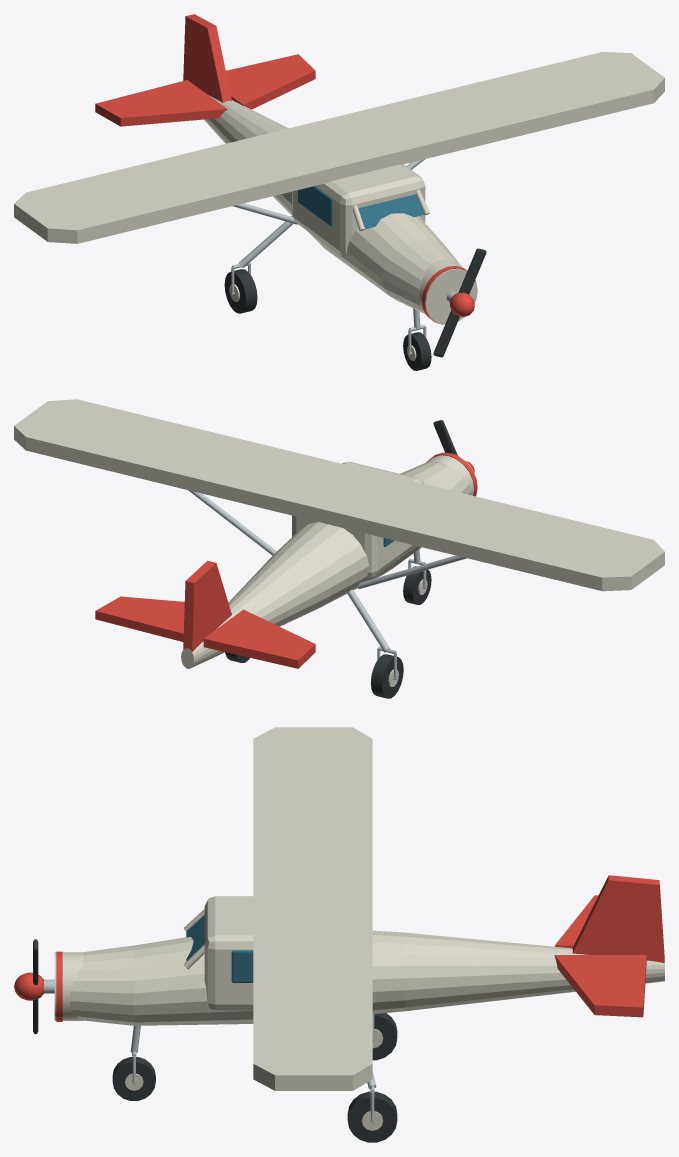
Rendered from small_airplane.glb.
The picture shows the model from 3 angles, top to bottom: view 1: azimuth 30°, elevation 25°; view 2: azimuth 150°, elevation 25°; view 3: azimuth 270°, elevation 25°; orthographic projection. The views are drawn at different scales.
Parts seen in each view (by area): view 1: Small airplane high wing, Small airplane tapered fuselage, Small airplane enclosed cabin, Small airplane horizontal tail, Small airplane horizontal tail.001, Small airplane upright tail fin, Small airplane engine cowling, Small airplane sloping windshield, Small airplane two-blade propeller, Small airplane main landing wheel tire, Small airplane side cockpit window, Small airplane front landing wheel tire; view 2: Small airplane high wing, Small airplane tapered fuselage, Small airplane horizontal tail, Small airplane upright tail fin, Small airplane horizontal tail.001, Small airplane enclosed cabin, Small airplane main landing wheel tire, Small airplane wing support strut, Small airplane front landing wheel tire, Small airplane wing support strut.001, Small airplane main gear strut, Small airplane engine cowling; view 3: Small airplane high wing, Small airplane tapered fuselage, Small airplane upright tail fin, Small airplane enclosed cabin, Small airplane horizontal tail.001, Small airplane main landing wheel tire.001, Small airplane front landing wheel tire, Small airplane engine cowling, Small airplane main landing wheel tire, Small airplane side cockpit window.001, Small airplane horizontal tail, Small airplane red propeller spinner.
Part boxes in pixels (x1,y1,x2,y2): Small airplane high wing: (14, 52, 664, 243); Small airplane tapered fuselage: (204, 95, 462, 312); Small airplane enclosed cabin: (292, 164, 425, 257); Small airplane horizontal tail: (95, 80, 227, 126); Small airplane horizontal tail.001: (226, 54, 315, 109); Small airplane upright tail fin: (183, 14, 231, 102); Small airplane engine cowling: (419, 260, 477, 324); Small airplane sloping windshield: (358, 194, 424, 229); Small airplane two-blade propeller: (433, 248, 486, 357); Small airplane main landing wheel tire: (224, 269, 257, 313); Small airplane side cockpit window: (298, 186, 332, 226); Small airplane front landing wheel tire: (403, 332, 431, 370); Small airplane high wing: (14, 399, 664, 591); Small airplane tapered fuselage: (181, 462, 470, 668); Small airplane horizontal tail: (203, 609, 315, 668); Small airplane upright tail fin: (183, 560, 231, 651); Small airplane horizontal tail.001: (95, 596, 184, 641); Small airplane enclosed cabin: (292, 462, 424, 577); Small airplane main landing wheel tire: (371, 654, 403, 698); Small airplane wing support strut: (357, 555, 466, 588); Small airplane front landing wheel tire: (403, 566, 431, 604); Small airplane wing support strut.001: (188, 490, 276, 555); Small airplane main gear strut: (347, 589, 389, 652); Small airplane engine cowling: (426, 453, 477, 495); Small airplane high wing: (253, 727, 372, 1090); Small airplane tapered fuselage: (70, 930, 664, 1025); Small airplane upright tail fin: (572, 875, 664, 962); Small airplane enclosed cabin: (204, 896, 253, 1010); Small airplane horizontal tail.001: (554, 955, 646, 1017); Small airplane main landing wheel tire.001: (347, 1091, 397, 1142); Small airplane front landing wheel tire: (112, 1057, 155, 1100); Small airplane engine cowling: (54, 952, 83, 1020); Small airplane main landing wheel tire: (372, 1013, 397, 1060); Small airplane side cockpit window.001: (231, 950, 253, 982); Small airplane horizontal tail: (554, 895, 598, 948); Small airplane red propeller spinner: (14, 972, 44, 1000).
Size of the model in its own units: 7.6 by 2.25 by 6.01.
